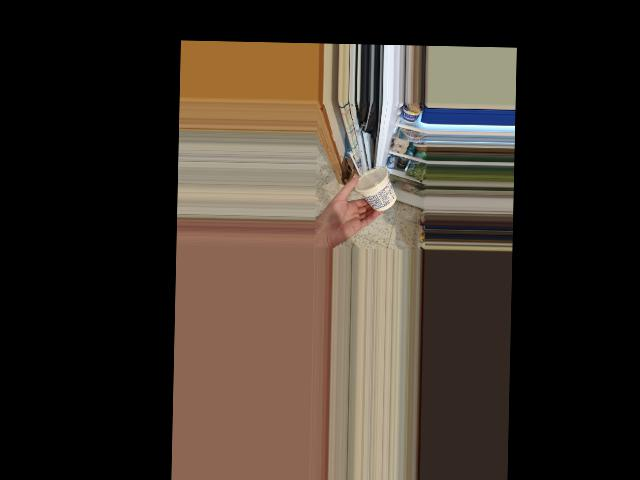cotage: (352, 166, 395, 207)
